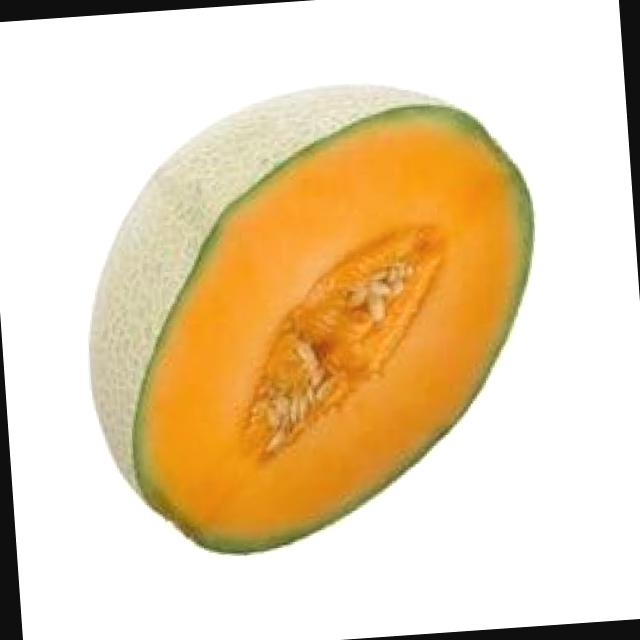cantaloupe: (72, 68, 560, 566)
